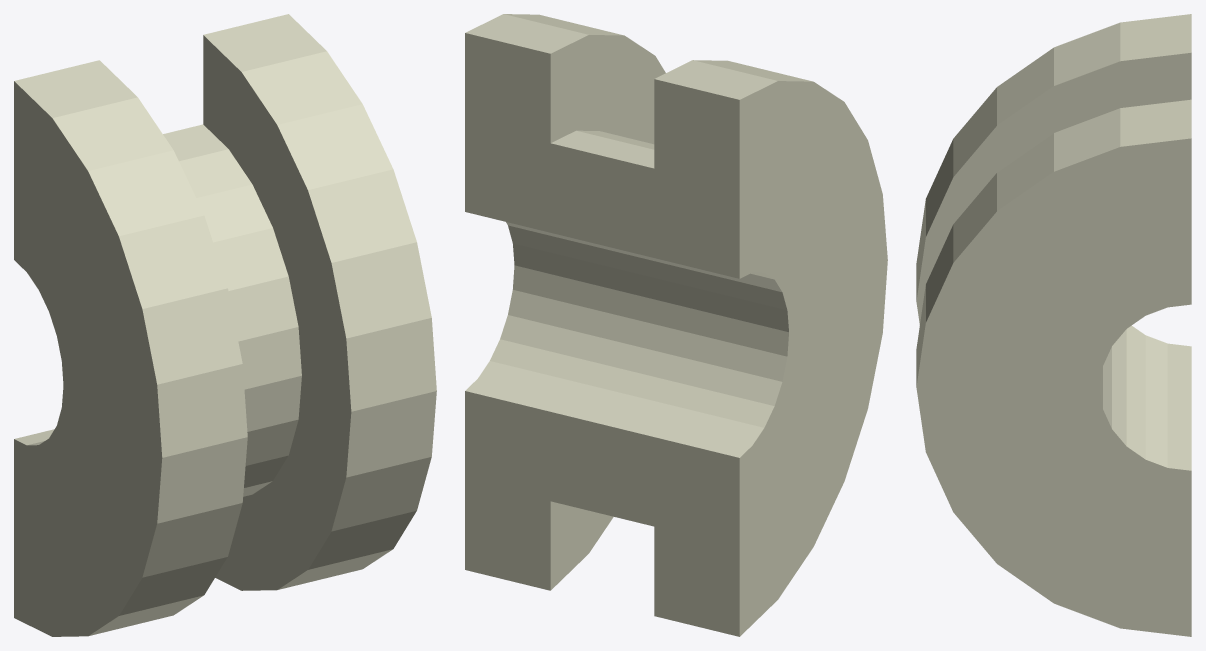
The model's file is section_128.obj.
3 views of the same model, side by side, from view 1: azimuth 30°, elevation 25°; view 2: azimuth 150°, elevation 25°; view 3: azimuth 270°, elevation 25° (orthographic). The views are drawn at different scales.
Bounding box in the file's own units: 3.21 × 6 × 3.
